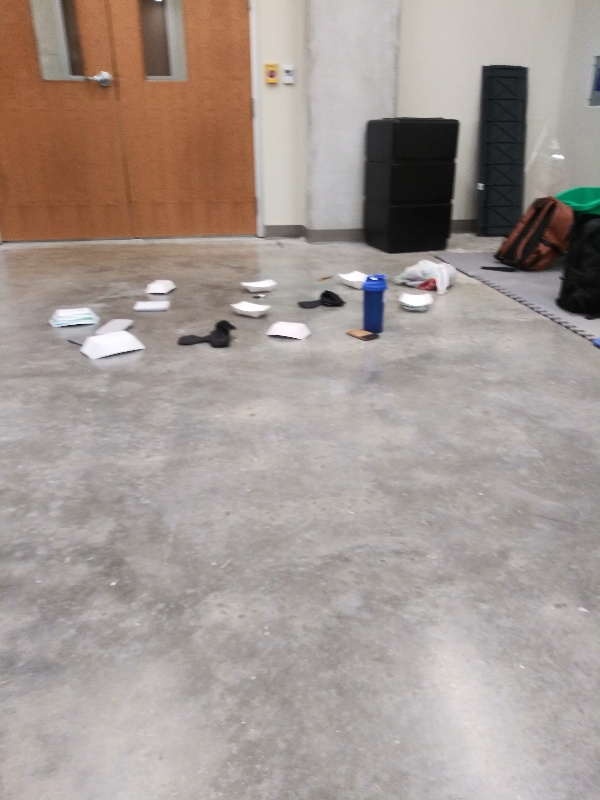plate: (77, 325, 148, 367), (48, 305, 103, 330), (263, 317, 315, 343), (224, 296, 272, 321), (395, 287, 432, 312), (141, 275, 181, 297), (333, 267, 368, 292)
